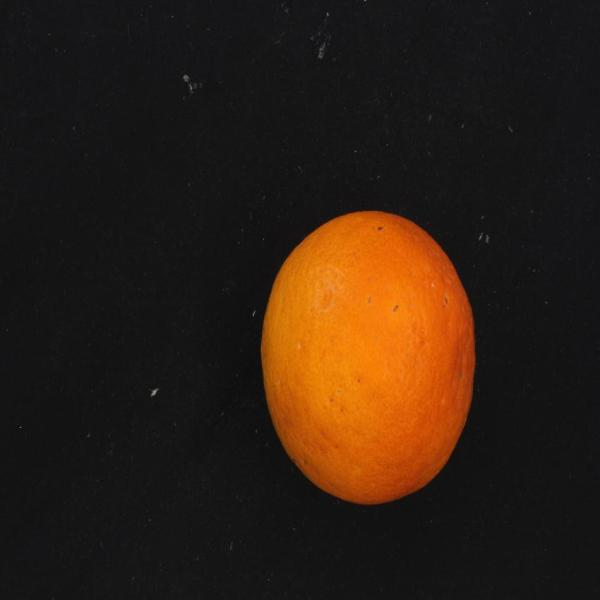Moho verde: (256, 204, 481, 509)
